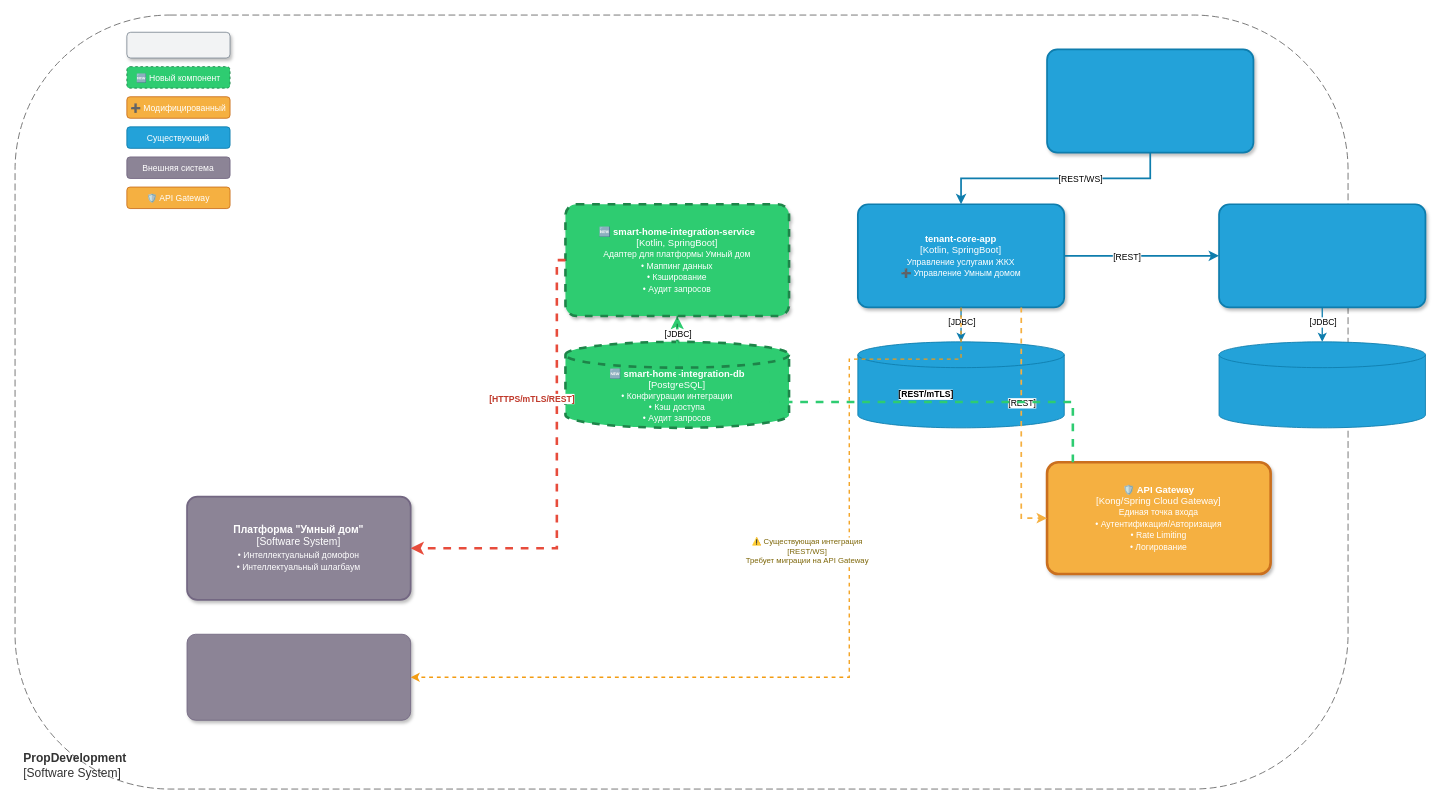
The diagram is 1447 pixels wide and 804 high, and some of its shapes have lost their labels. Here are the shapes that lost their labels. From the top down, the centre of each, then its label:
the point at 179,46: Легенда
the point at 1150,102: Витрина сервисов для собственников [Mobile App] Добавлен UI для Умного дома
the point at 1322,257: CRM [Kotlin, SpringBoot] Управление собственниками ➕ Настройки Умного дома
the point at 960,384: tenant-core-db [PostgreSQL] Услуги ЖКХ
the point at 1321,384: crm-tenant-db [PostgreSQL] ➕ Таблицы настроек Умного дома
the point at 299,678: Поставщик ресурсов ЖКХ [Software System]
